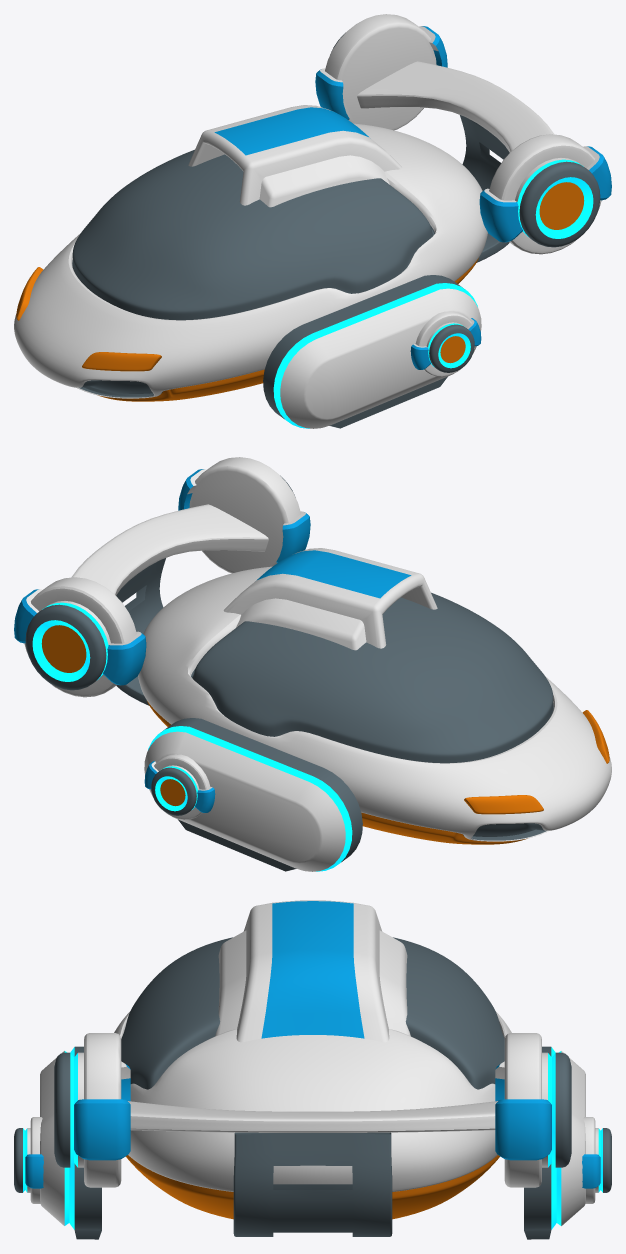
Rendered from FLYING CAR.glb.
3 renders of one model, top to bottom at view 1: azimuth 30°, elevation 25°; view 2: azimuth 150°, elevation 25°; view 3: azimuth 270°, elevation 25°, orthographic. The views are drawn at different scales.
Parts seen in each view (by area): view 1: Cube.041, Cylinder.031, Circle.059, Cube.044, Plane.090, Cylinder.069, Plane.093, Cube.043; view 2: Cube.041, Cylinder.031, Circle.059, Cube.044, Plane.090, Cylinder.069, Plane.093, Cube.043; view 3: Cube.041, Cube.044, Cylinder.031, Plane.093, Circle.059, Plane.090, Cylinder.069.
Part boxes in pixels (box(x1,y1,x2,y2)): Cube.041: box(14, 123, 487, 401); Cylinder.031: box(315, 14, 611, 254); Circle.059: box(263, 275, 481, 428); Cube.044: box(188, 105, 402, 207); Plane.090: box(357, 61, 554, 152); Cylinder.069: box(410, 311, 481, 376); Plane.093: box(460, 115, 509, 262); Cube.043: box(16, 267, 161, 371); Cube.041: box(138, 566, 611, 844); Cylinder.031: box(14, 457, 310, 697); Circle.059: box(144, 718, 362, 871); Cube.044: box(223, 548, 437, 650); Plane.090: box(71, 504, 268, 595); Cylinder.069: box(144, 754, 215, 819); Plane.093: box(116, 558, 165, 705); Cube.043: box(464, 710, 609, 814); Cube.041: box(114, 937, 511, 1219); Cube.044: box(215, 900, 410, 1042); Cylinder.031: box(54, 1033, 571, 1187); Plane.093: box(233, 1132, 392, 1236); Circle.059: box(40, 1046, 585, 1239); Plane.090: box(128, 1101, 497, 1132); Cylinder.069: box(14, 1117, 611, 1203).
Size of the model in its own units: 2.28 by 1.02 by 1.89.
